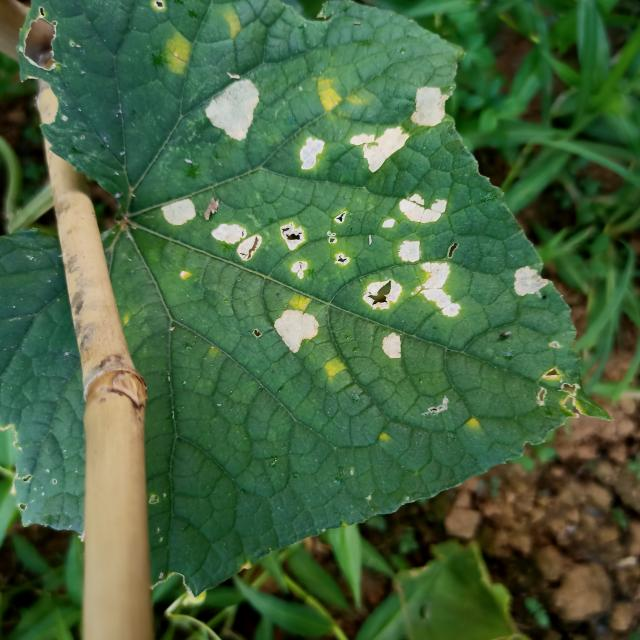disease_cucumber: (206, 189, 468, 363), (198, 71, 266, 149), (348, 124, 408, 178), (155, 31, 197, 86), (409, 82, 455, 130), (289, 134, 334, 180), (153, 191, 201, 234), (508, 265, 555, 302), (308, 77, 357, 112), (212, 4, 246, 44), (316, 351, 350, 387), (285, 287, 315, 317)
